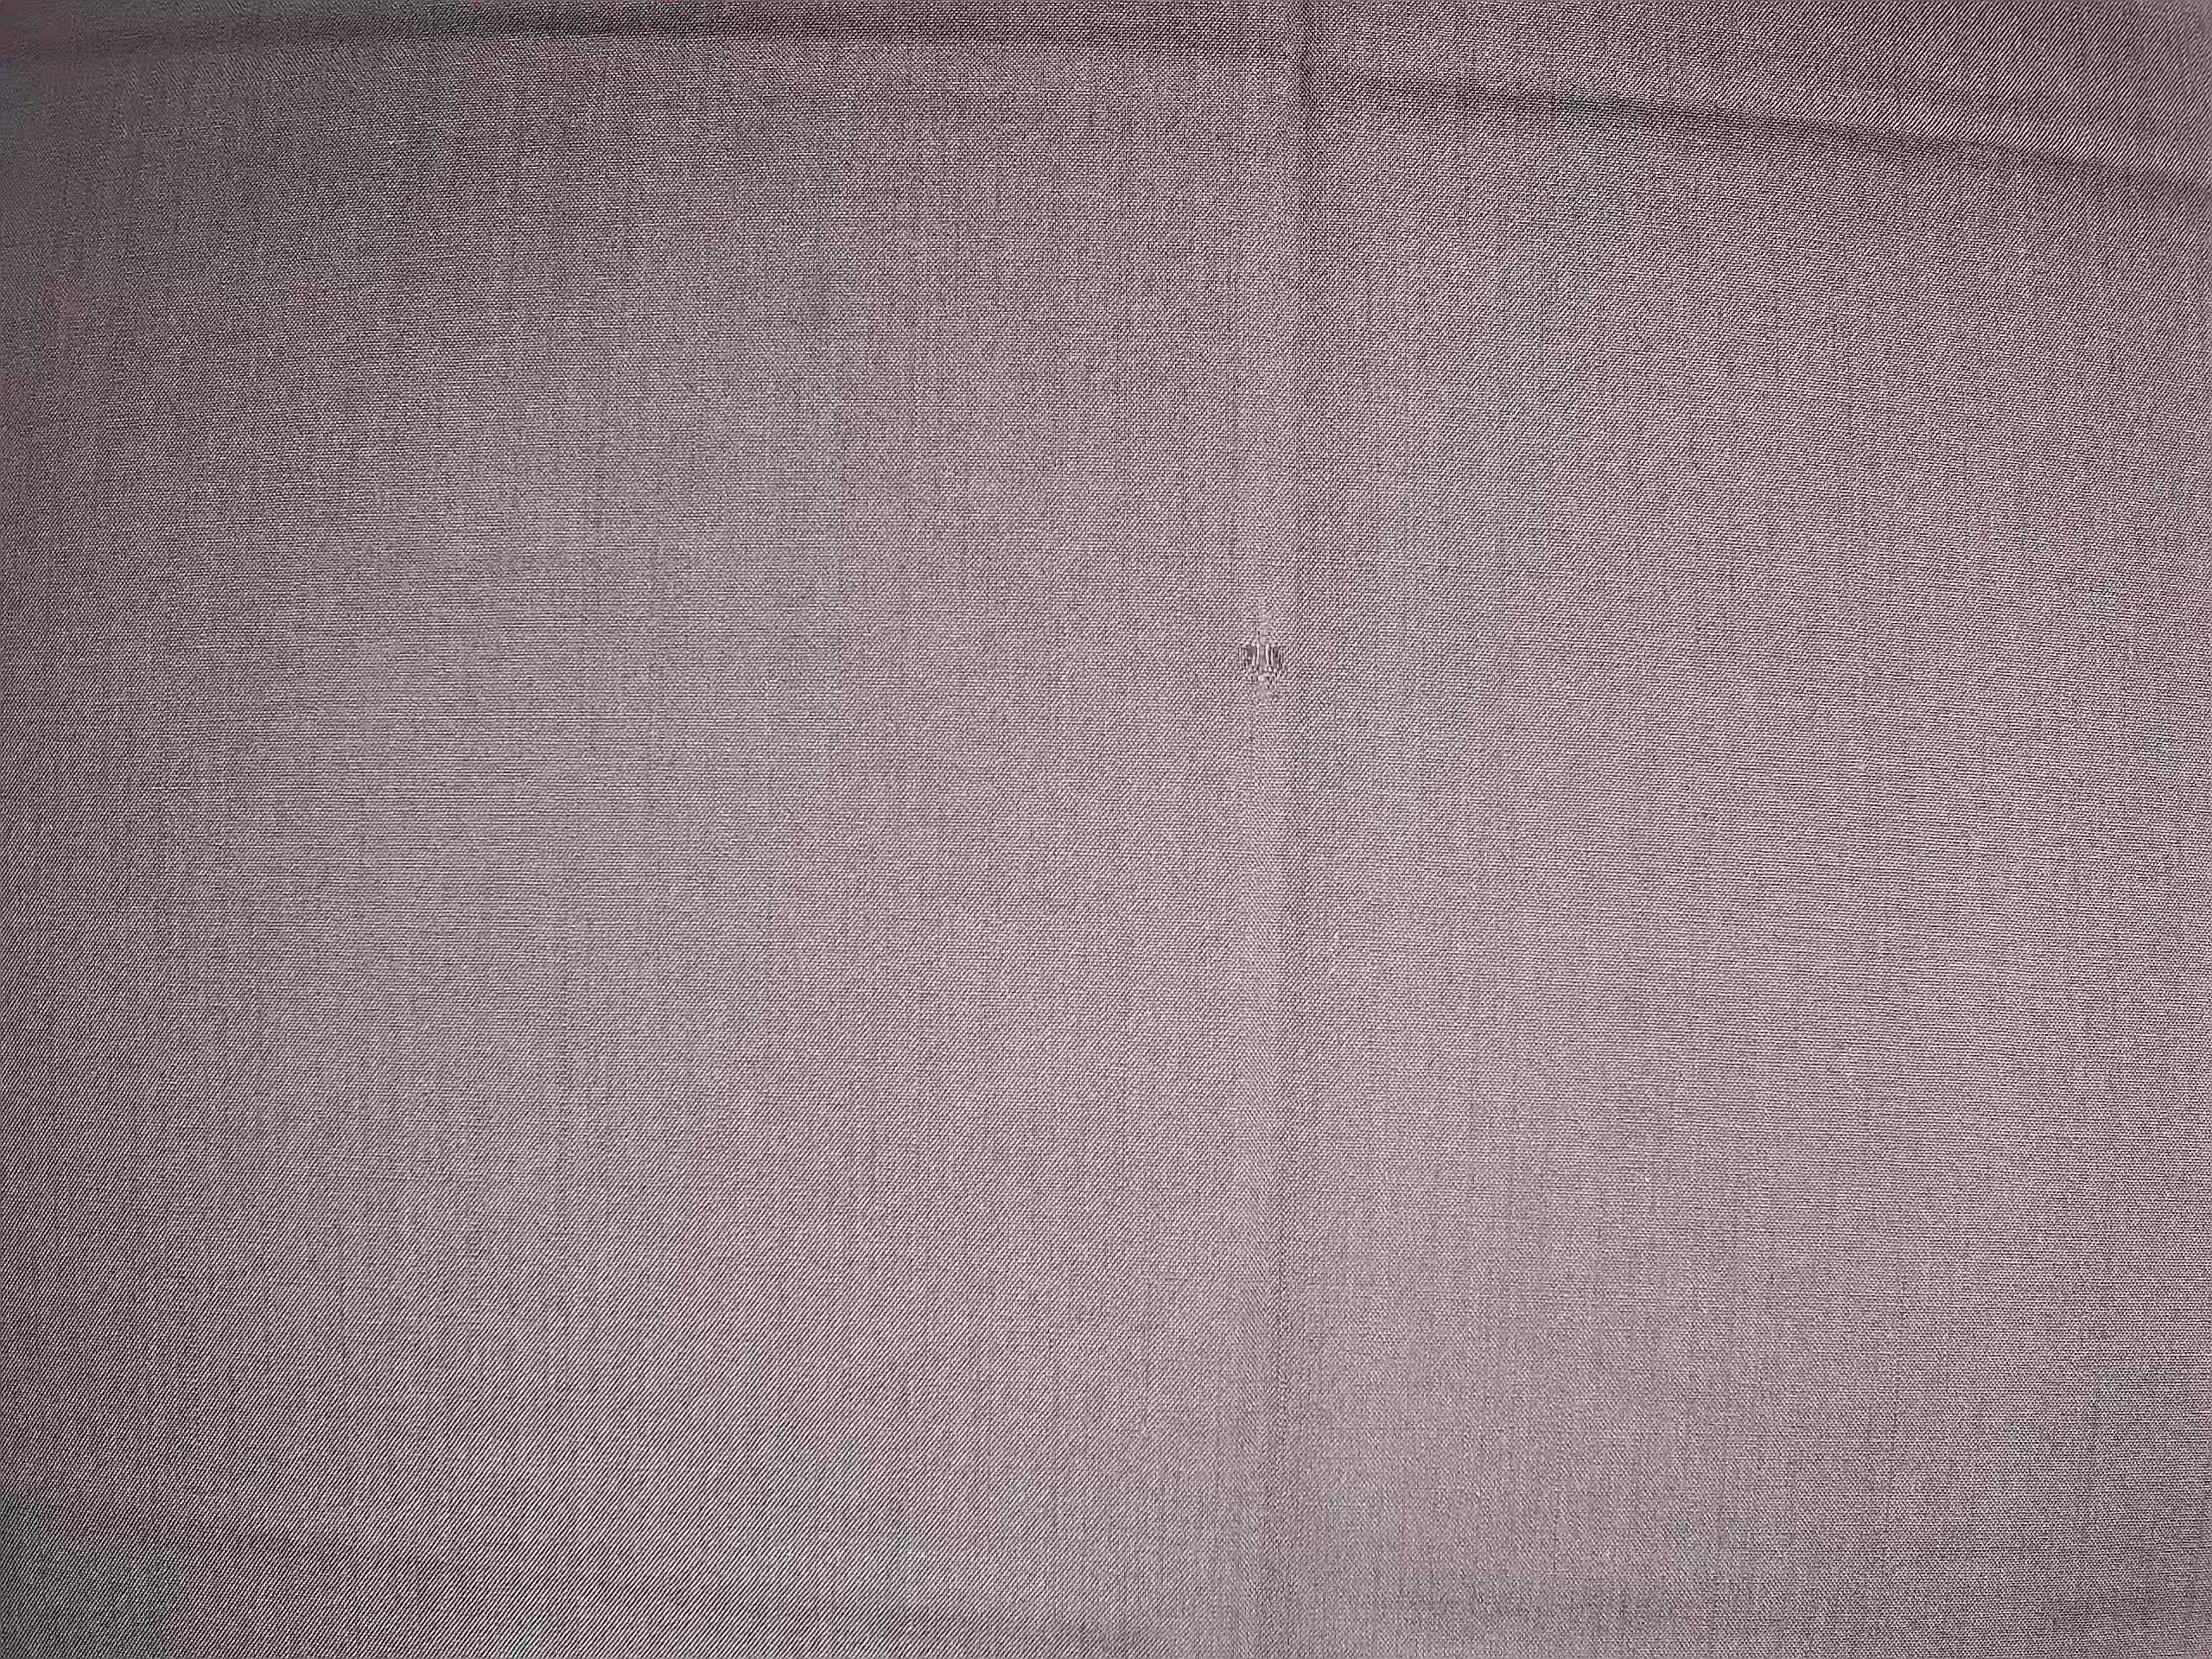brushed-hole: (1216, 622, 1318, 704)
